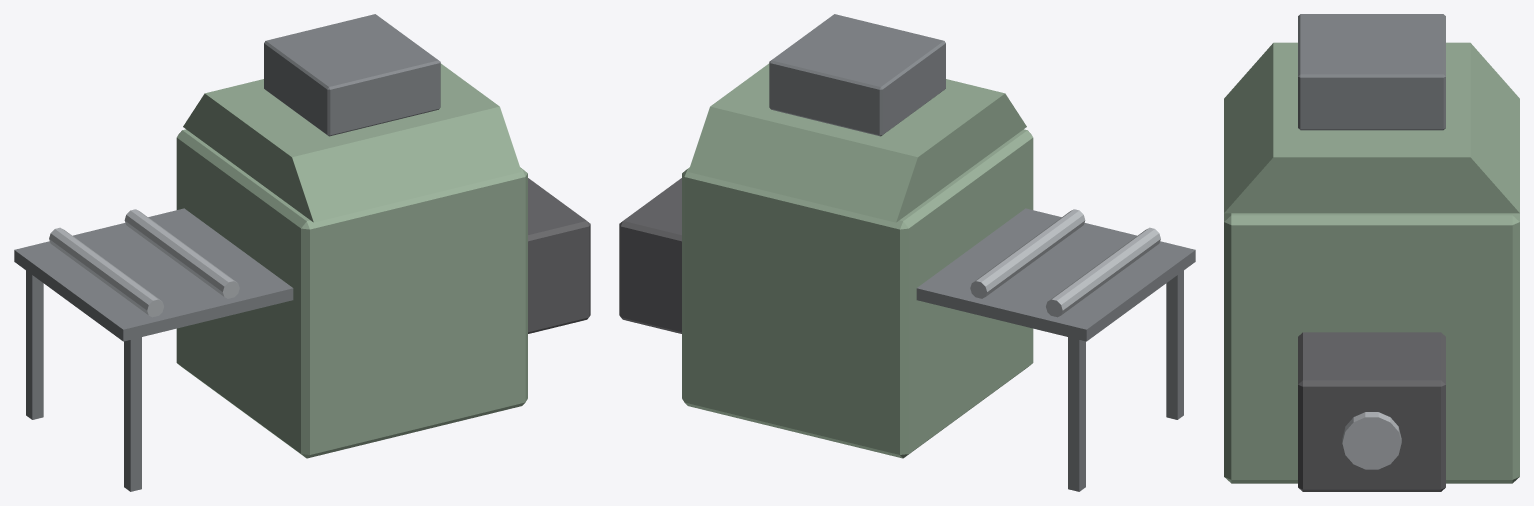
File: edger.glb
3 views of the same model, side by side, from view 1: azimuth 30°, elevation 25°; view 2: azimuth 150°, elevation 25°; view 3: azimuth 270°, elevation 25° (orthographic). The views are drawn at different scales.
Visible parts, largest first — view 1: edger_tank_g, edger_steel_d, edger_dark, edger_steel; view 2: edger_tank_g, edger_steel_d, edger_dark, edger_steel; view 3: edger_tank_g, edger_dark, edger_steel_d, edger_steel.
Part boxes in pixels (left/top/right/bottom): edger_tank_g: left=176, top=63, right=527, bottom=458; edger_steel_d: left=14, top=14, right=440, bottom=491; edger_dark: left=528, top=178, right=590, bottom=333; edger_steel: left=49, top=209, right=239, bottom=317; edger_tank_g: left=682, top=63, right=1033, bottom=458; edger_steel_d: left=769, top=14, right=1195, bottom=491; edger_dark: left=619, top=178, right=681, bottom=333; edger_steel: left=970, top=209, right=1160, bottom=317; edger_tank_g: left=1224, top=42, right=1519, bottom=483; edger_dark: left=1298, top=332, right=1445, bottom=491; edger_steel_d: left=1298, top=14, right=1445, bottom=130; edger_steel: left=1342, top=412, right=1401, bottom=469.
Size of the model in its own units: 2.65 by 1.7 by 1.2.
